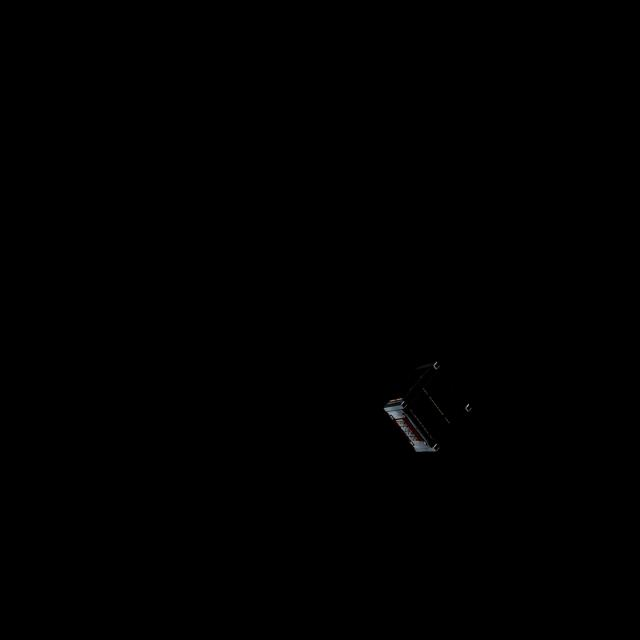medium_debris: (384, 354, 488, 462)
